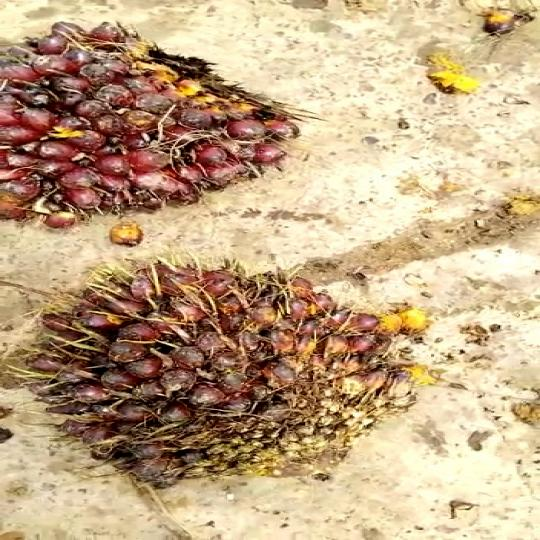kurang masak: (16, 255, 446, 509), (0, 14, 313, 233)
